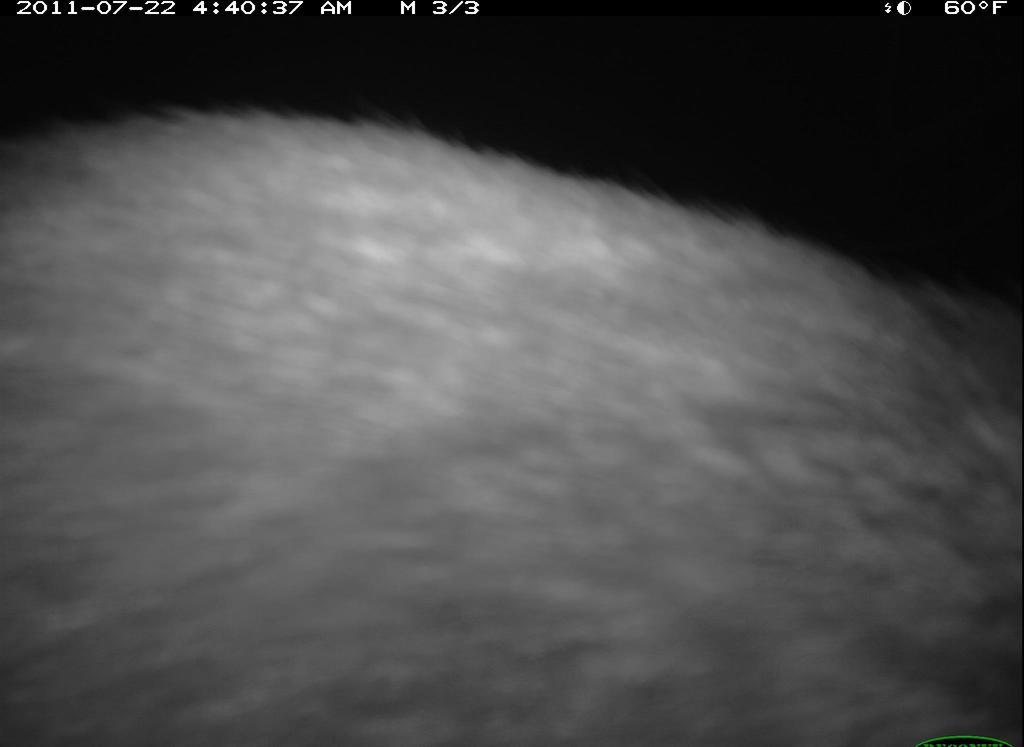raccoon: (7, 97, 1024, 747)
